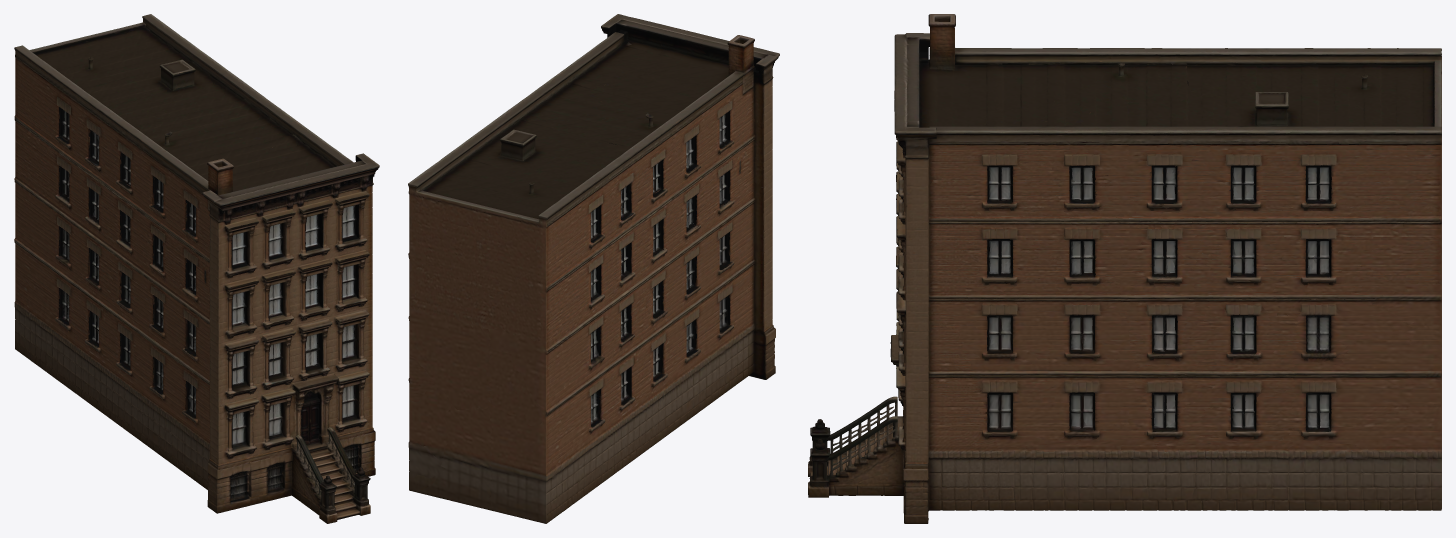
The model's file is tripo_convert_ddea9fd4-f35e-4817-ad0a-69fc445bd252.fbx.
The picture shows the model from 3 angles, left to right: view 1: azimuth 30°, elevation 25°; view 2: azimuth 150°, elevation 25°; view 3: azimuth 270°, elevation 25°; orthographic projection. The views are drawn at different scales.
Parts seen in each view (by area): view 1: tripo_node_ddea9fd4; view 2: tripo_node_ddea9fd4; view 3: tripo_node_ddea9fd4.
Boxes of the visible parts, x1,y1,x2,y2 form: tripo_node_ddea9fd4: (14, 14, 379, 523); tripo_node_ddea9fd4: (408, 14, 779, 523); tripo_node_ddea9fd4: (808, 14, 1441, 523).
Size of the model in its own units: 0.3623 by 0.7151 by 0.9777.
Materials: 1 (1 with a texture image).
